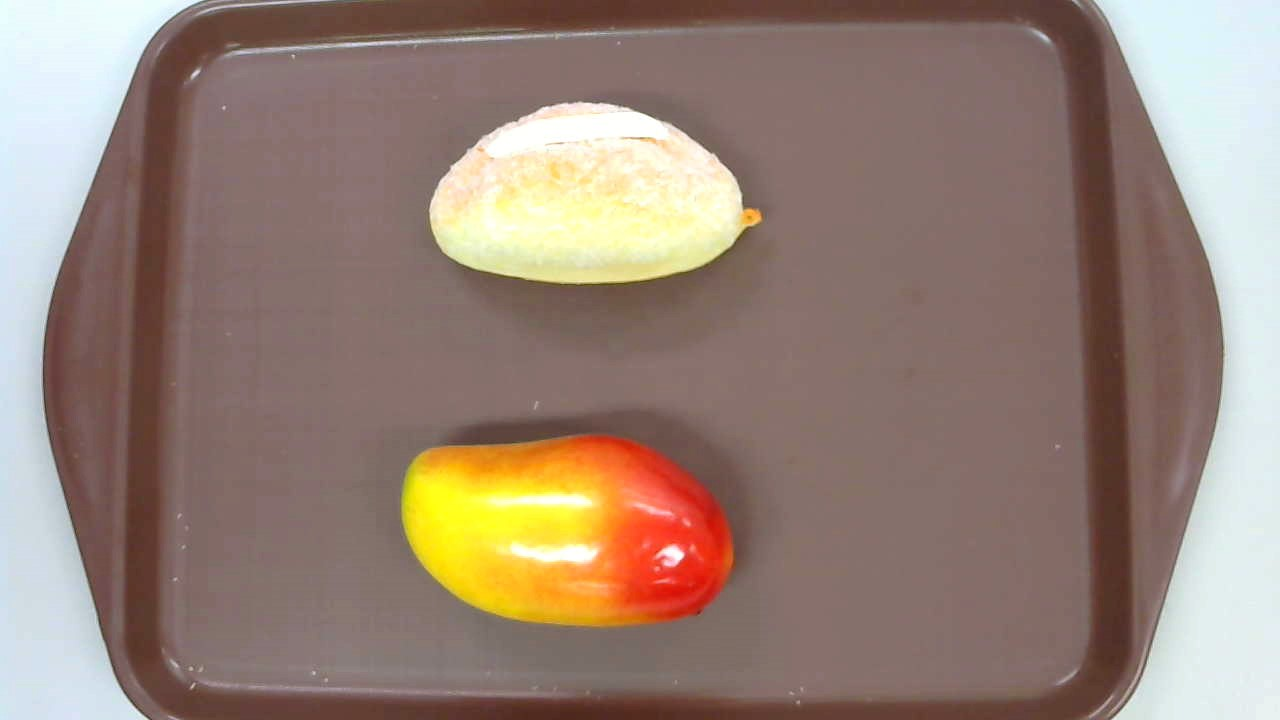coconut: (428, 101, 762, 285)
red mango: (400, 432, 735, 628)
